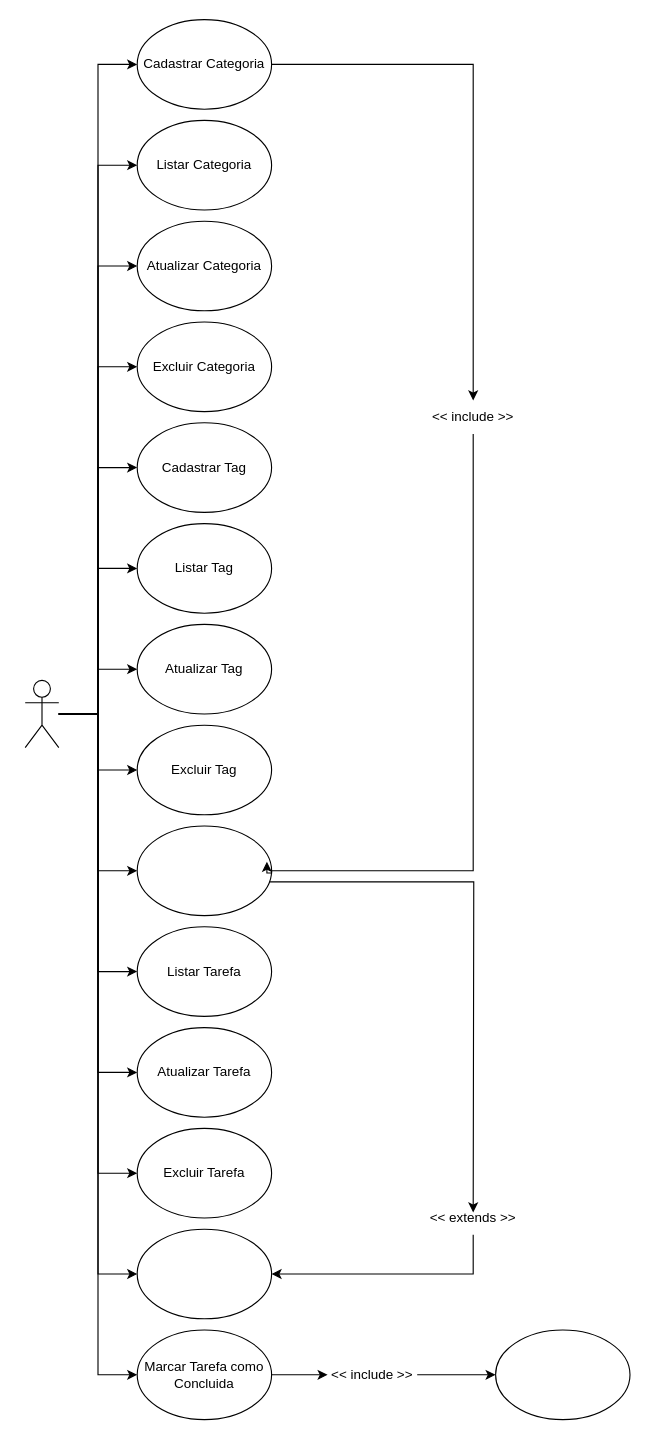
The diagram is 650 pixels wide and 1439 high, and some of its shapes have lost their labels. The box of each missing label's shape, as (x1, y1, x2, y2) in pixels:
Associar Tags à Tarefa: (136, 1228, 272, 1319)
Cadastrar Tarefa: (136, 825, 272, 916)
Gerar log de Conclusão: (494, 1329, 630, 1420)
Usuário: (24, 679, 59, 748)
